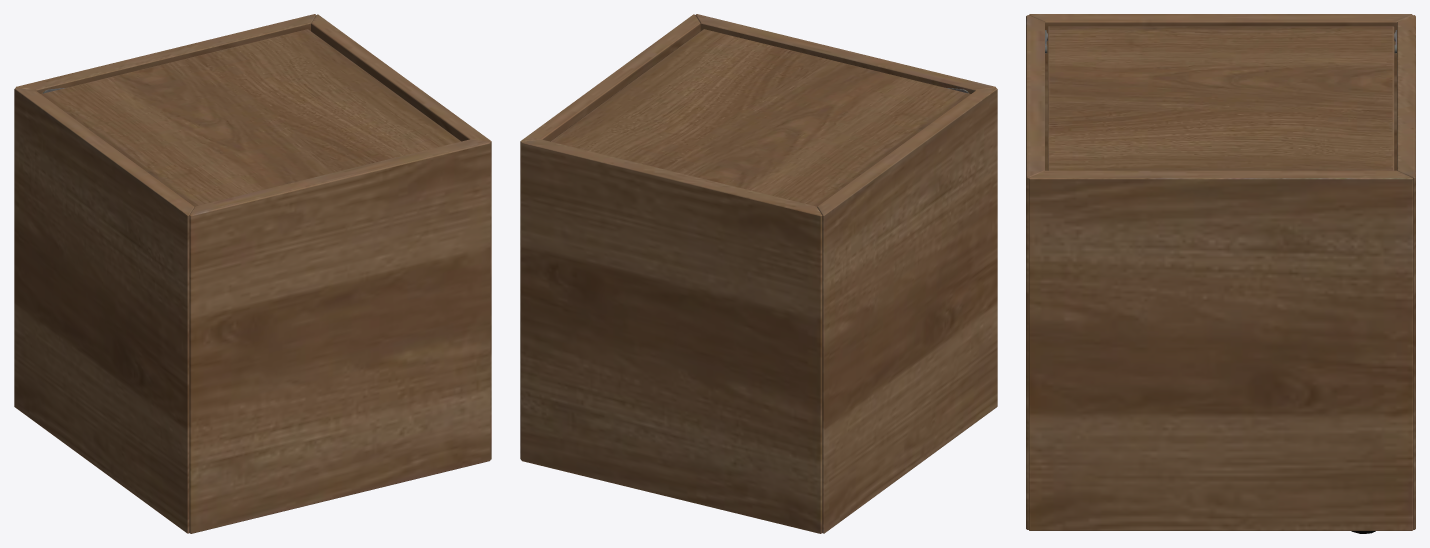
File: LB-LR-WIFI-02.glb
3 views of the same model, side by side, from view 1: azimuth 30°, elevation 25°; view 2: azimuth 150°, elevation 25°; view 3: azimuth 270°, elevation 25° (orthographic). The views are drawn at different scales.
Visible parts, largest first — view 1: ASY_ART_60574590_S01_NV01, ASY_LPT01_60574590_S01_NV01; view 2: ASY_ART_60574590_S01_NV01, ASY_LPT01_60574590_S01_NV01; view 3: ASY_ART_60574590_S01_NV01, ASY_LPT01_60574590_S01_NV01.
Boxes of the visible parts, box(x1,y1,x2,y2) form: ASY_ART_60574590_S01_NV01: box(14, 14, 491, 533); ASY_LPT01_60574590_S01_NV01: box(41, 29, 460, 206); ASY_ART_60574590_S01_NV01: box(520, 14, 997, 533); ASY_LPT01_60574590_S01_NV01: box(550, 29, 970, 206); ASY_ART_60574590_S01_NV01: box(1026, 14, 1415, 533); ASY_LPT01_60574590_S01_NV01: box(1046, 26, 1395, 170).
Bounding box in the file's own units: 0.35 × 0.3671 × 0.35.
2 materials, 2 textured.
